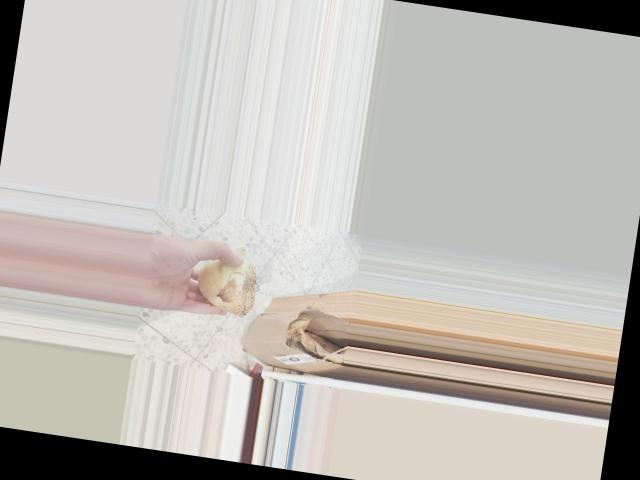onion: (190, 245, 263, 318)
